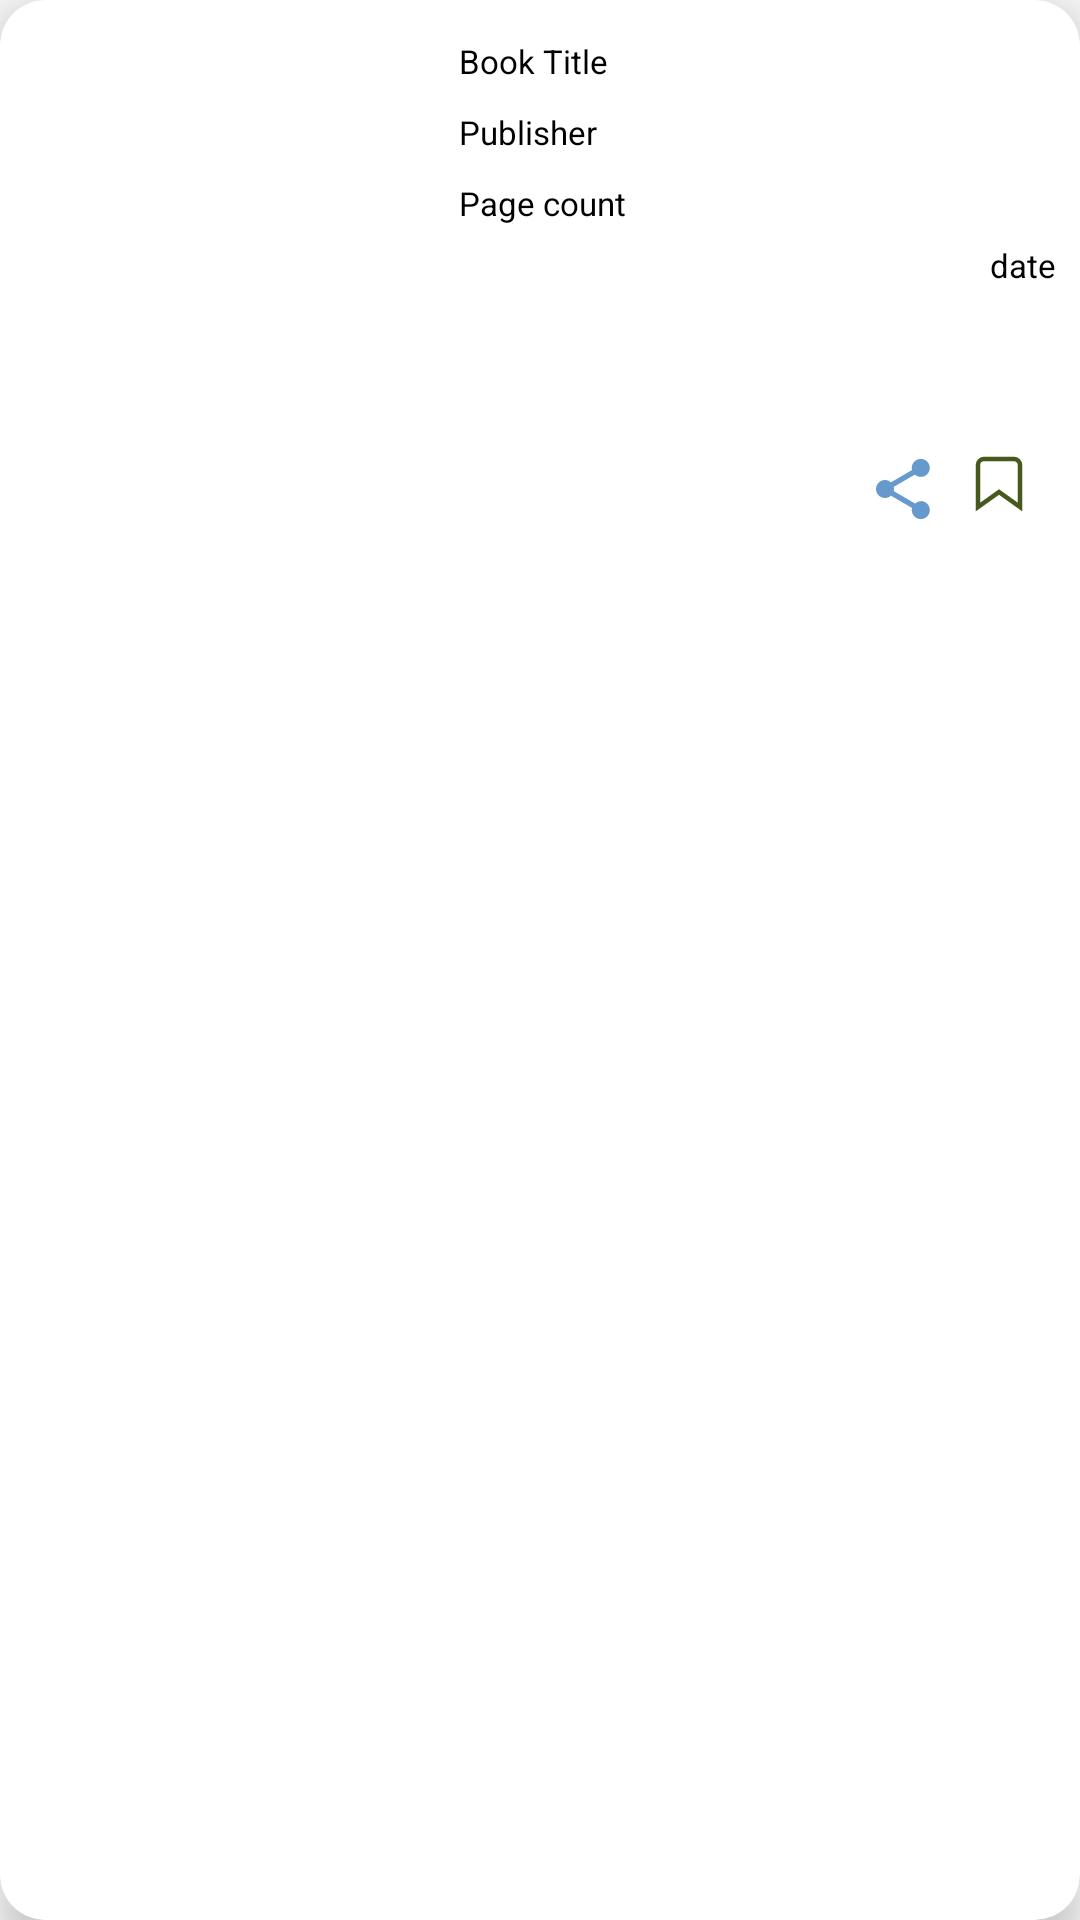

Icons on this 1080 × 1920 Android screen, each with its box as (x1, y1, x2, y2):
bookmark border: (975, 456, 1023, 511)
share: (876, 459, 930, 519)
